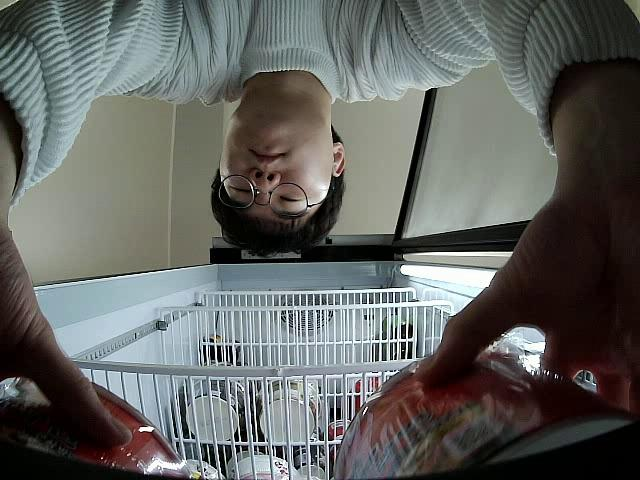00_hand: (419, 196, 640, 400), (0, 219, 133, 443)
01_shinRamen_L: (334, 342, 640, 480), (0, 374, 198, 480)
